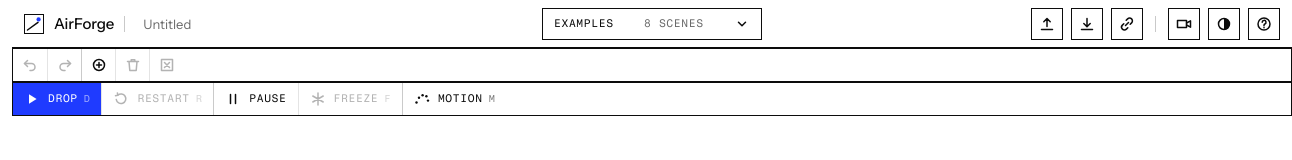
Scenario: enables actions only when they can do something
The width and height of the screenshot is (1292, 160).
expect the button "Restart R" is disabled: met, box x1=101 y1=83 x2=213 y2=115
expect the button "Freeze F" is disabled: met, box x1=298 y1=83 x2=402 y2=115
Step 1. Click the button named "Add ball" → (98, 65), box x1=81 y1=49 x2=115 y2=81
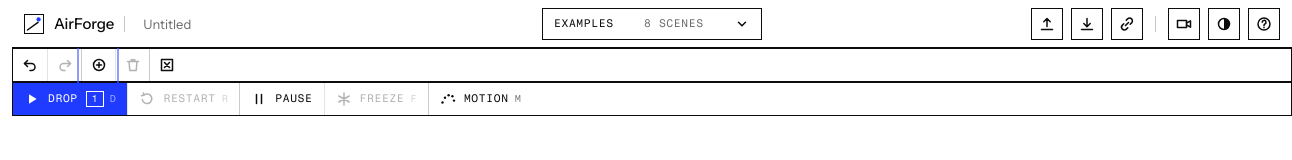
expect the button named "Undo" is enabled: met, box x1=13 y1=49 x2=47 y2=81
expect the button named "Clear" is enabled: met, box x1=149 y1=49 x2=183 y2=81
Step 2. Click the button with aria-label "Drop (1)" → (70, 99), box x1=13 y1=83 x2=127 y2=115
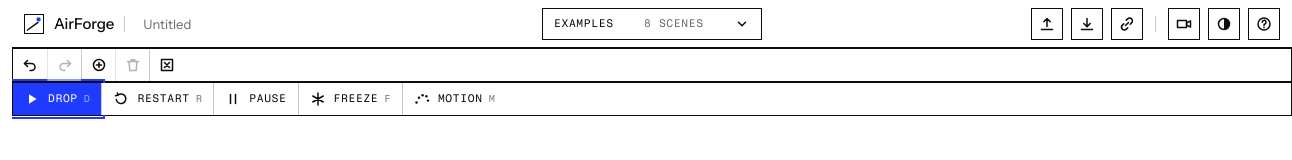
expect the button "Restart R" is enabled: met
expect the button "Freeze F" is enabled: met, box x1=298 y1=83 x2=402 y2=115
Step 3. Click the button "Restart R" → (157, 99), box x1=101 y1=83 x2=213 y2=115
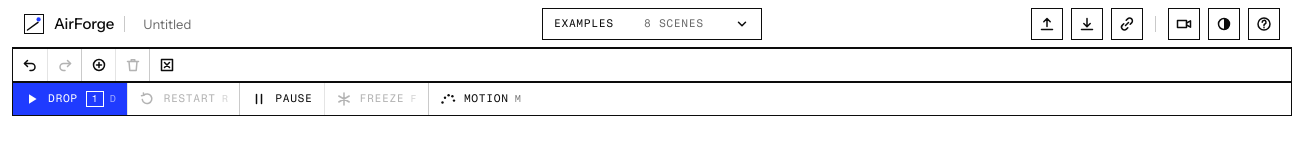
expect the button with aria-label "Drop (1)" is shown: met, box x1=13 y1=83 x2=127 y2=115
Step 4. Click the button named "Undo" → (30, 65), box x1=13 y1=49 x2=47 y2=81
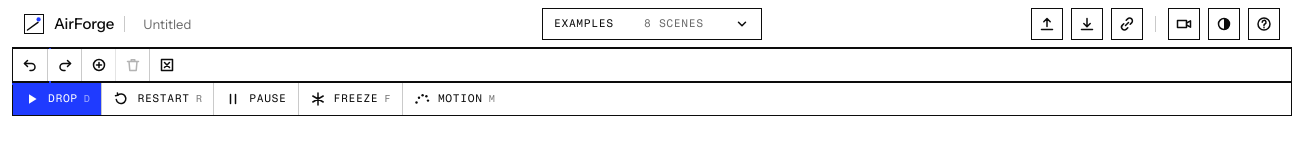
expect the button named "Redo" is enabled: met, box x1=47 y1=49 x2=81 y2=81
